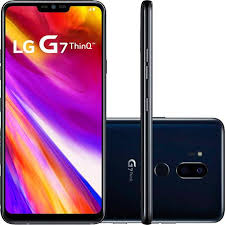lg: (1, 1, 108, 223)
